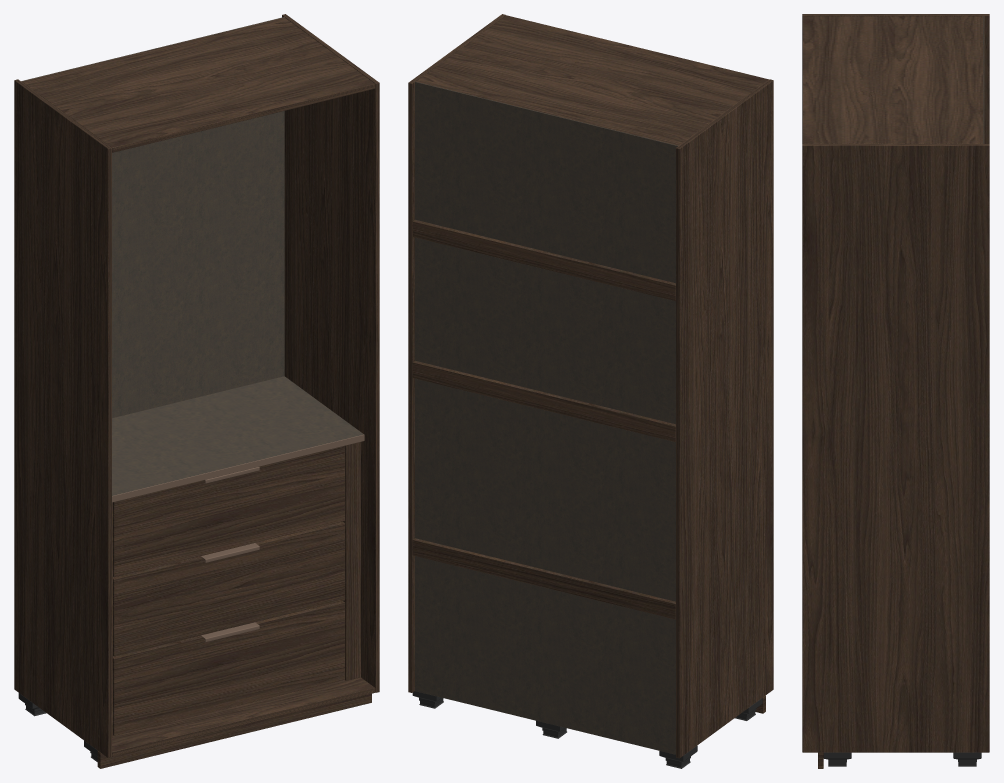
3 renders of one model, left to right at view 1: azimuth 30°, elevation 25°; view 2: azimuth 150°, elevation 25°; view 3: azimuth 270°, elevation 25°, orthographic.
Parts seen in each view (by area): view 1: HK1001035, BONG_01; view 2: HK1001035; view 3: HK1001035.
Part boxes in pixels (box(x1,y1,x2,y2)): HK1001035: box(14, 14, 379, 768); BONG_01: box(201, 467, 259, 642); HK1001035: box(408, 14, 773, 768); HK1001035: box(802, 14, 989, 768).
Bounding box in the file's own units: 1 × 2.2 × 0.6.
Materials: 7 (6 with a texture image).
